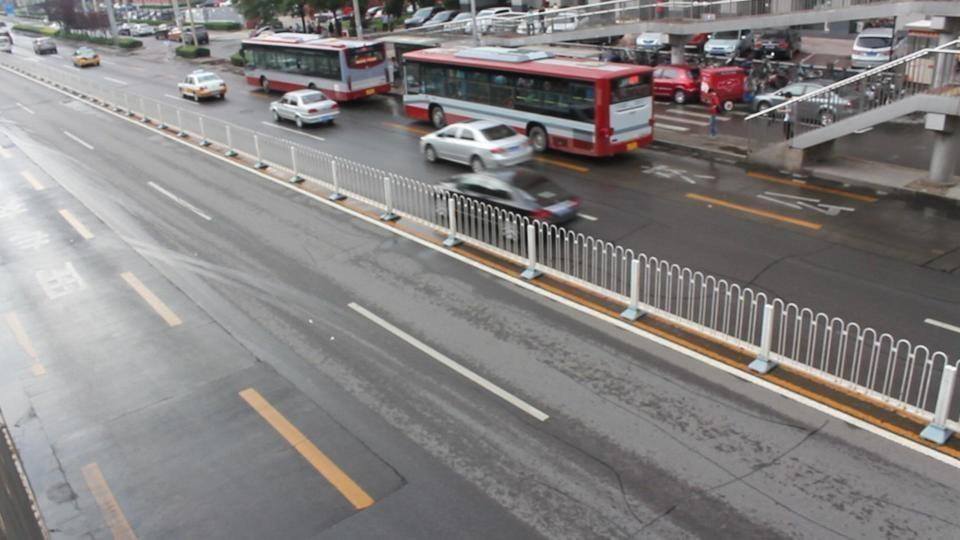car: (456, 168, 582, 230), (418, 118, 536, 173), (748, 84, 855, 126), (271, 88, 342, 128), (652, 65, 705, 104), (703, 28, 755, 63), (850, 28, 895, 66), (178, 69, 228, 103), (743, 30, 796, 61), (402, 7, 461, 30), (634, 32, 672, 63), (176, 24, 210, 45), (73, 46, 101, 69), (33, 39, 57, 55)
